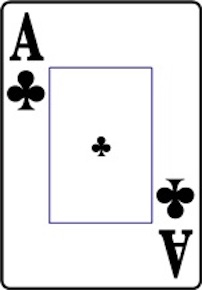AceOfClubs: (3, 2, 200, 290)
